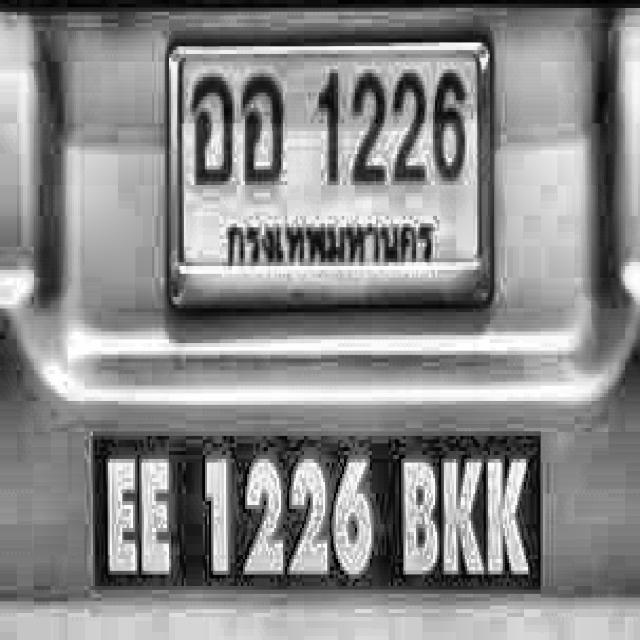license-plate: (161, 21, 502, 324)
